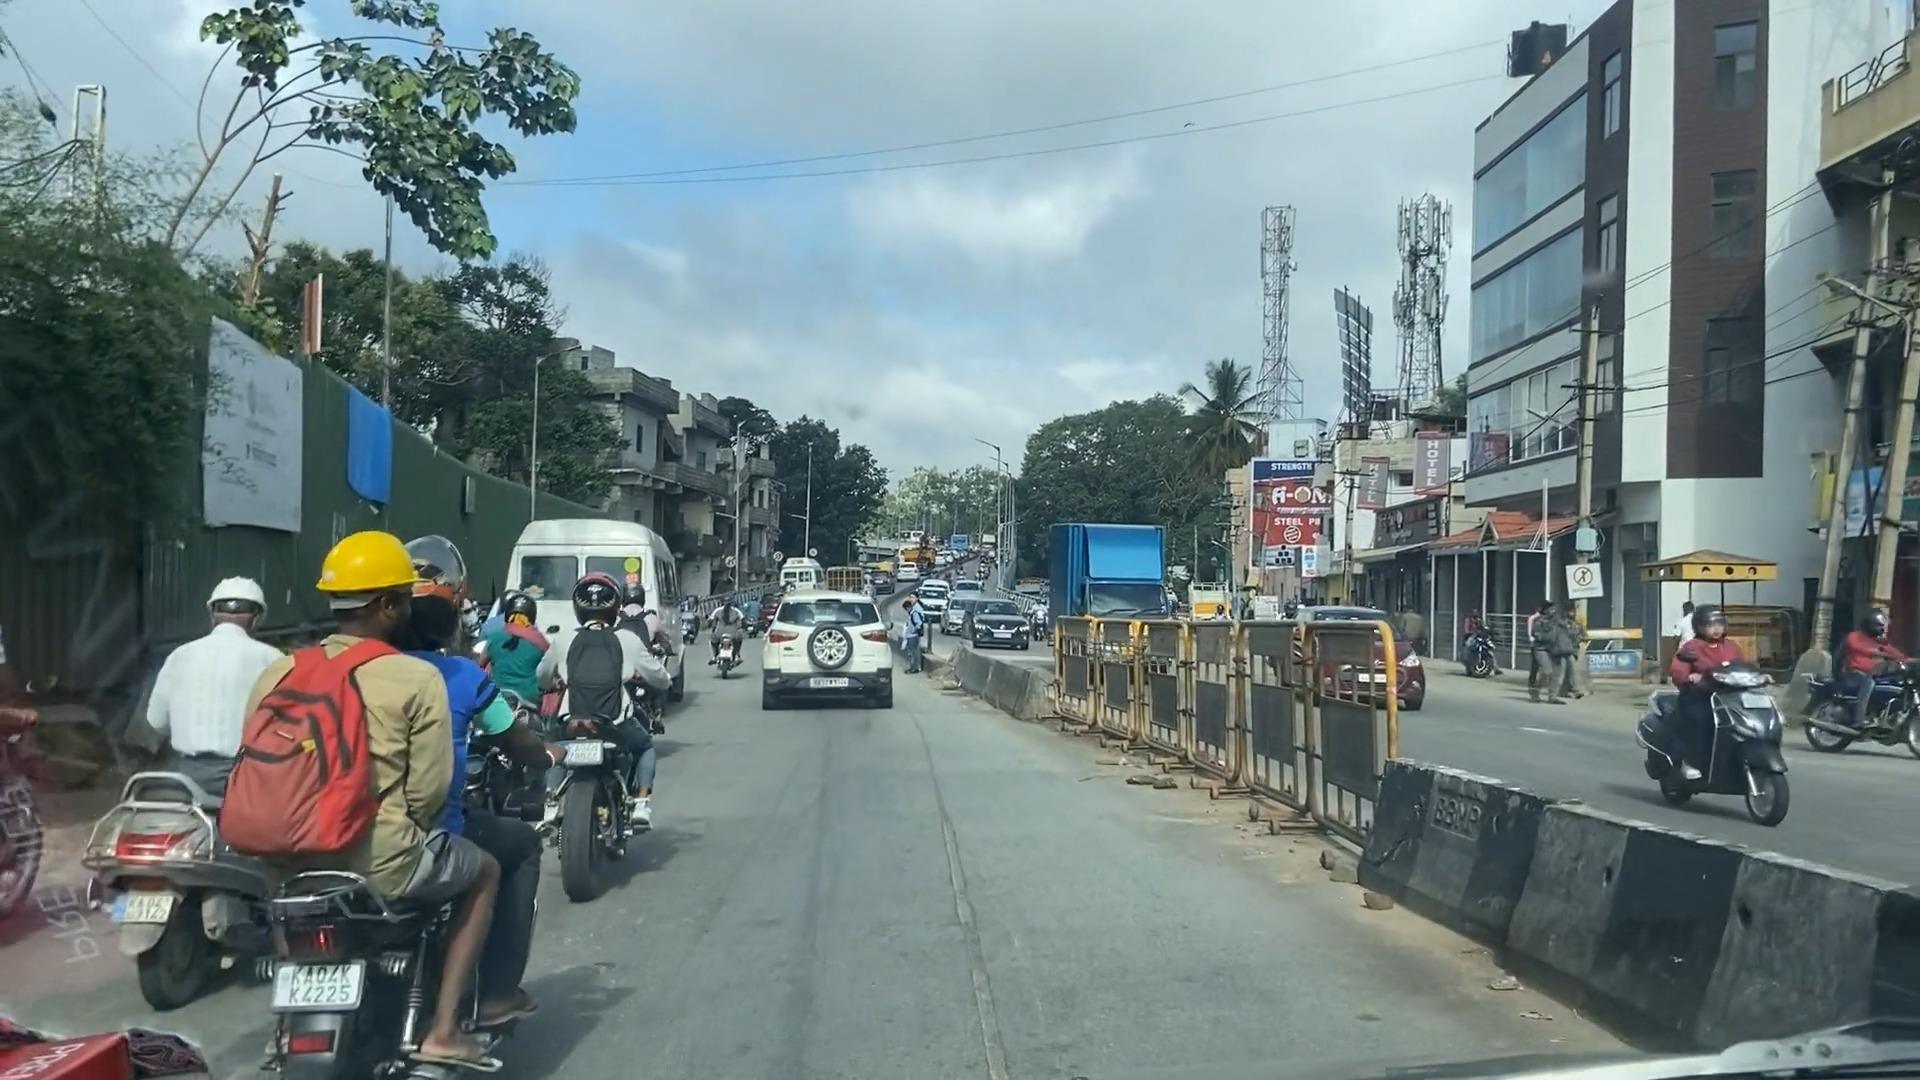LMV: (214, 546, 534, 1056), (534, 588, 674, 877), (760, 595, 895, 698)
UnsurfacedRoad: (906, 712, 1014, 1080)
